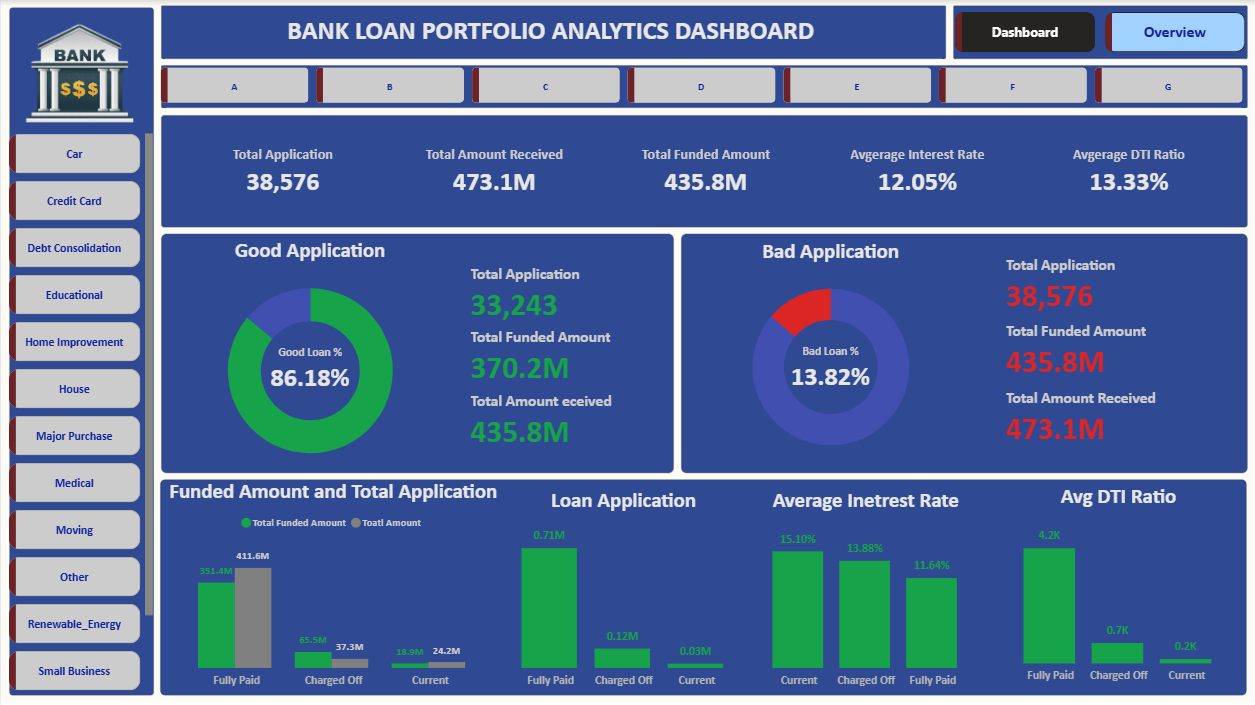

Layout of this report page (visuals, bound fields, positions):
{"tool":"powerbi","page":{"name":"Dashboard","canvas":[1280,720],"ordinal":0},"visuals":[{"type":"cardVisual","fields":{"Data":["financial_loan.Total Application","financial_loan.Toatl Amount","financial_loan.Total Funded Amount","financial_loan.Average Int Rate","financial_loan.Average DTI Ratio"]},"box":[167,116.4,1106,118],"z":0},{"type":"donutChart","title":"Good Application","fields":{"Y":["financial_loan.Total Application"],"Category":["financial_loan.Good VS Bad"]},"box":[157.8,242,315.6,246.6],"z":1000},{"type":"donutChart","title":"Bad Application ","fields":{"Y":["financial_loan.Total Application"],"Category":["financial_loan.Good VS Bad"]},"box":[697,243.6,300.3,235.9],"z":2000},{"type":"cardVisual","fields":{"Data":["financial_loan.Total Application","financial_loan.Total Funded Amount","financial_loan.Toatl Amount"],"Rows":["financial_loan.Good VS Bad"]},"box":[450.4,176.2,263.5,321.7],"z":3000},{"type":"cardVisual","fields":{"Data":["financial_loan.Good Loan %"]},"box":[243.6,335.5,144,82.7],"z":4000},{"type":"cardVisual","fields":{"Data":["financial_loan.Total Application","financial_loan.Total Funded Amount","financial_loan.Toatl Amount"]},"box":[997.3,243.6,217.5,231.3],"z":5000},{"type":"cardVisual","fields":{"Data":["financial_loan.Bad Loan %"]},"box":[775.1,337,144,78.1],"z":6000},{"type":"advancedSlicerVisual","fields":{"Values":["financial_loan.PURPOSE"]},"box":[3.1,136.3,157.8,569.9],"z":7000},{"type":"image","box":[3.1,12.3,154.7,124.1],"z":8000},{"type":"advancedSlicerVisual","fields":{"Values":["financial_loan.GRADE"]},"box":[157.8,68.9,1115.2,36.8],"z":9000},{"type":"clusteredColumnChart","title":"Funded Amount and Total Application","fields":{"Y":["financial_loan.Total Funded Amount","financial_loan.Toatl Amount"],"Category":["financial_loan.LOAN_STATUS"]},"box":[156.3,488.7,366.1,222.1],"z":10000},{"type":"columnChart","title":"Loan Application","fields":{"Y":["Sum(financial_loan.TOTAL_ACC)"],"Category":["financial_loan.LOAN_STATUS"]},"box":[496.3,497.9,278.8,212.9],"z":11000},{"type":"columnChart","title":"Average Inetrest Rate ","fields":{"Category":["financial_loan.LOAN_STATUS"],"Y":["financial_loan.Average Int Rate"]},"box":[755.2,497.9,255.8,212.9],"z":12000},{"type":"columnChart","title":"Avg DTI Ratio ","fields":{"Category":["financial_loan.LOAN_STATUS"],"Y":["financial_loan.Avg DTI Ratio"]},"box":[1011.1,493.3,260.4,212.9],"z":13000},{"type":"pageNavigator","box":[974.3,12.3,297.2,41.4],"z":14000},{"type":"textbox","box":[160.9,0,801.2,53.6],"z":15000}]}

Visuals, with their boxes in screenshot pixels (x1, y1, x2, y2), scaled from the page's 1280x720 canvas onto the 1255x705 screenshot:
cardVisual - financial_loan.Total Application x financial_loan.Toatl Amount: region(164, 114, 1248, 230)
"Good Application" donutChart: region(155, 237, 464, 478)
"Bad Application " donutChart: region(683, 239, 978, 470)
cardVisual - financial_loan.Total Application x financial_loan.Total Funded Amount: region(442, 173, 700, 488)
cardVisual - financial_loan.Good Loan %: region(239, 329, 380, 409)
cardVisual - financial_loan.Total Application x financial_loan.Total Funded Amount: region(978, 239, 1191, 465)
cardVisual - financial_loan.Bad Loan %: region(760, 330, 901, 406)
advancedSlicerVisual - financial_loan.PURPOSE: region(3, 133, 158, 691)
image: region(3, 12, 155, 134)
advancedSlicerVisual - financial_loan.GRADE: region(155, 67, 1248, 103)
"Funded Amount and Total Application" clusteredColumnChart: region(153, 479, 512, 696)
"Loan Application" columnChart: region(487, 488, 760, 696)
"Average Inetrest Rate " columnChart: region(740, 488, 991, 696)
"Avg DTI Ratio " columnChart: region(991, 483, 1247, 691)
pageNavigator: region(955, 12, 1247, 53)
textbox: region(158, 0, 943, 52)
